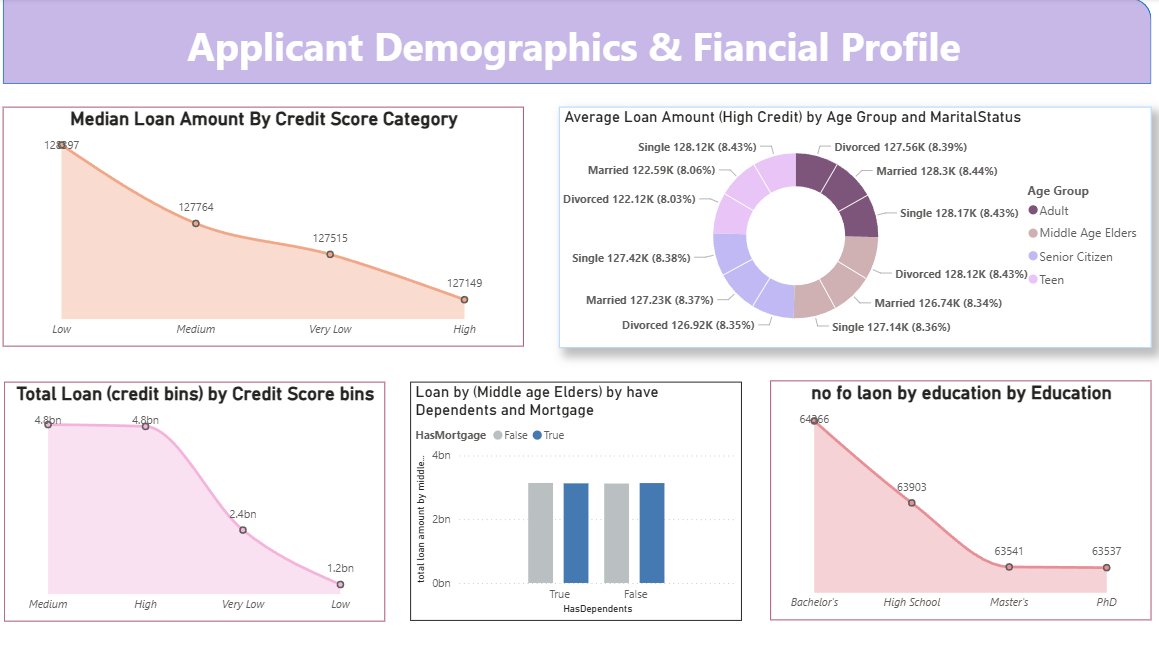

This screenshot's page, from the dashboard's own definition file:
{"tool":"powerbi","page":{"name":"Applicant  Demographics & Fiancial Profile","canvas":[1280,720],"ordinal":1},"visuals":[{"type":"shape","box":[9.6,0,1261.1,94.7],"z":0},{"type":"lineChart","title":"Median Loan Amount By Credit Score Category","fields":{"Category":["Loan_default.Credit Score bins"],"Y":["Measure Table 2.Median"]},"box":[9.6,119.4,572.2,263.5],"z":1000},{"type":"donutChart","fields":{"Y":["Measure Table 2.Average Loan Amount (High Credit)"],"Category":["Loan_default.Age Group"],"Series":["Loan_default.MaritalStatus"]},"box":[620.2,119.4,650.4,264.8],"z":2000},{"type":"lineChart","fields":{"Y":["Measure Table 2.Total Loan (credit bins)"],"Category":["Loan_default.Credit Score bins"]},"box":[11,421.3,418.5,263.5],"z":3000},{"type":"clusteredColumnChart","title":"Loan by (Middle age Elders) by have Dependents and Mortgage","fields":{"Y":["Measure Table 2.total loan amount by middle age adults"],"Category":["Loan_default.HasDependents"],"Series":["Loan_default.HasMortgage"]},"box":[456.9,421.3,363.6,262.1],"z":4000},{"type":"lineChart","fields":{"Category":["Loan_default.Education"],"Y":["Measure Table 2.no fo laon by education"]},"box":[852.1,419.9,418.5,263.5],"z":5000}]}

Visuals, with their boxes in screenshot pixels (x1, y1, x2, y2), scaled from the page's 1280x720 canvas onto the 1159x651 screenshot:
shape: <box>9,0,1151,86</box>
"Median Loan Amount By Credit Score Category" lineChart: <box>9,108,527,346</box>
donutChart - Measure Table 2.Average Loan Amount (High Credit) x Loan_default.Age Group: <box>562,108,1150,347</box>
lineChart - Measure Table 2.Total Loan (credit bins) x Loan_default.Credit Score bins: <box>10,381,389,619</box>
"Loan by (Middle age Elders) by have Dependents and Mortgage" clusteredColumnChart: <box>414,381,743,618</box>
lineChart - Loan_default.Education x Measure Table 2.no fo laon by education: <box>772,380,1150,618</box>
